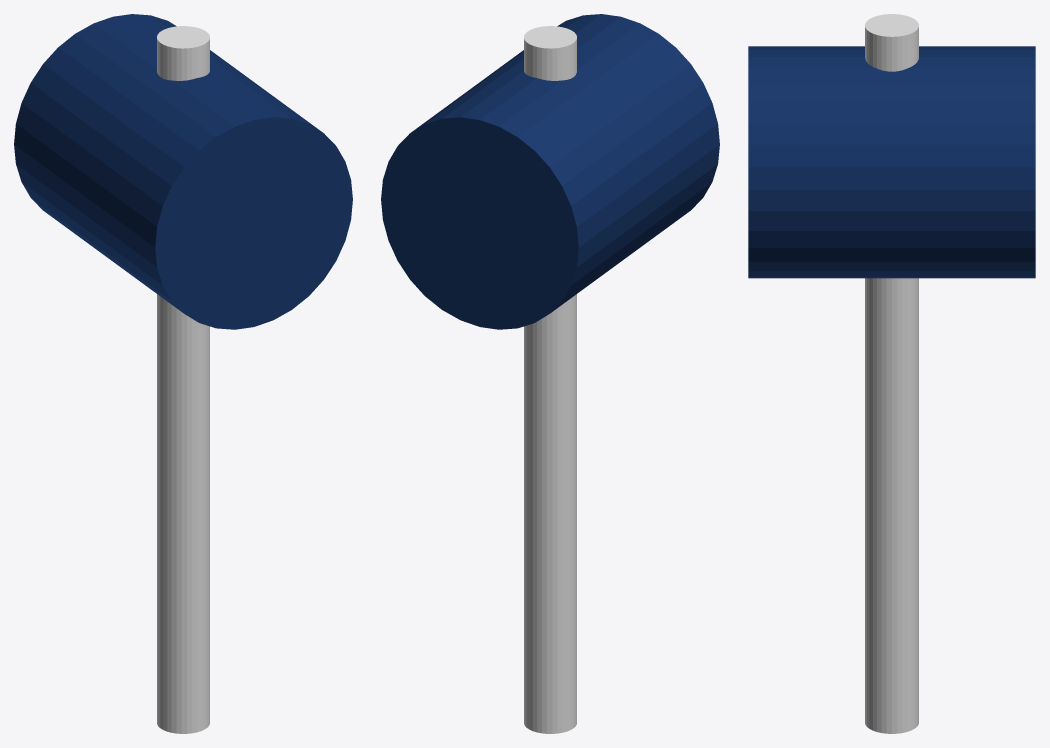
File: Hammer.fbx
3 renders of one model, left to right at view 1: azimuth 30°, elevation 25°; view 2: azimuth 150°, elevation 25°; view 3: azimuth 270°, elevation 25°, orthographic.
Visible parts, largest first — view 1: Head, Handle; view 2: Head, Handle; view 3: Head, Handle.
Boxes of the visible parts, x1,y1,x2,y2 form: Head: (14,14,352,329); Handle: (157,26,209,733); Head: (381,14,719,329); Handle: (524,26,576,733); Head: (748,46,1035,278); Handle: (865,14,918,733).
Size of the model in its own units: 0.3974 by 1.32 by 0.4914.
